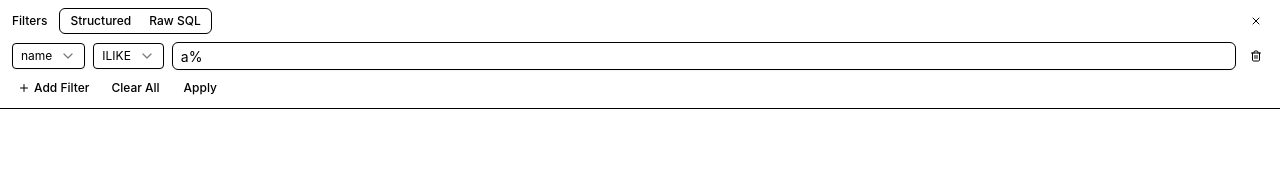
Scenario: FilterBar operator list follows the connected dialect (#2430) › does not duplicate an operator the dialect already offers
This screenshot has width=1280, height=171.
Click the dropdown named "Filter operator": (129, 56) [93,43,164,69]
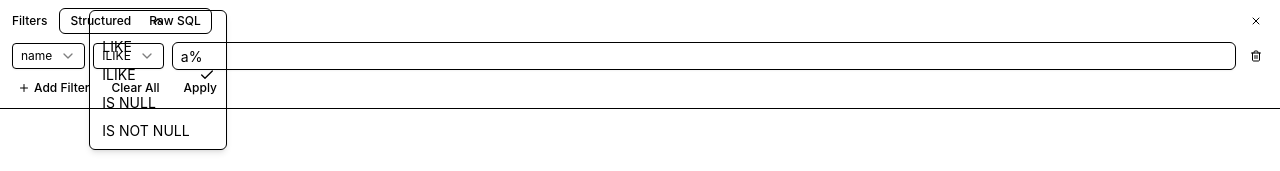
Expected: the number of options "ILIKE" is 1, [94,61,222,89]
